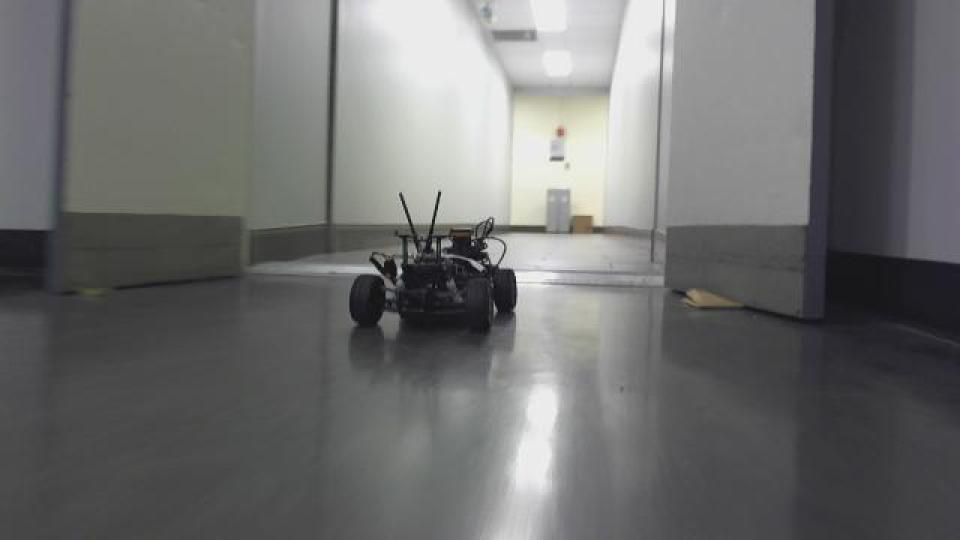car: (345, 188, 519, 338)
